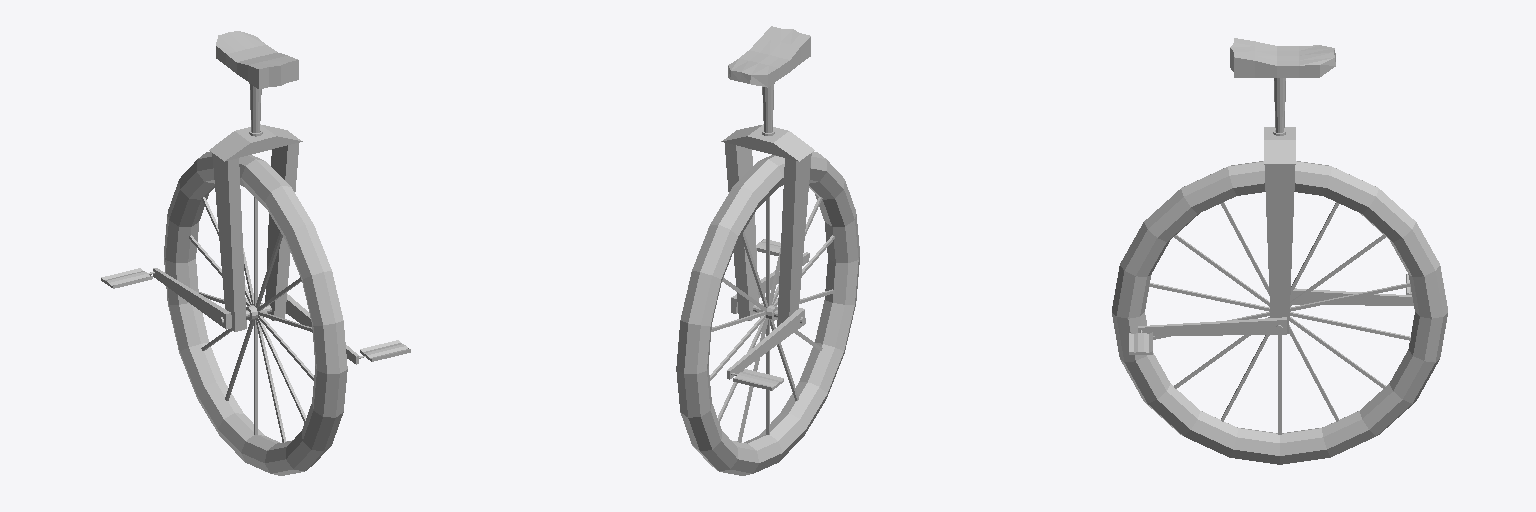
The model's file is cupic_monocycle.obj.
3 renders of one model, left to right at view 1: azimuth 30°, elevation 25°; view 2: azimuth 150°, elevation 25°; view 3: azimuth 270°, elevation 25°, orthographic.
Size of the model in its own units: 108 by 270 by 198.